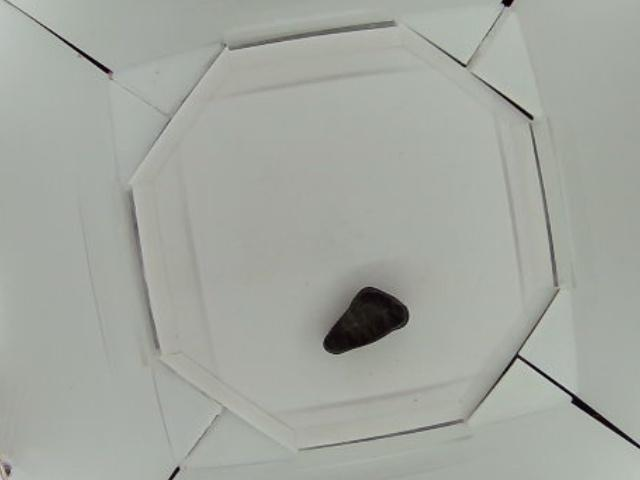Pebble: (322, 286, 411, 355)
